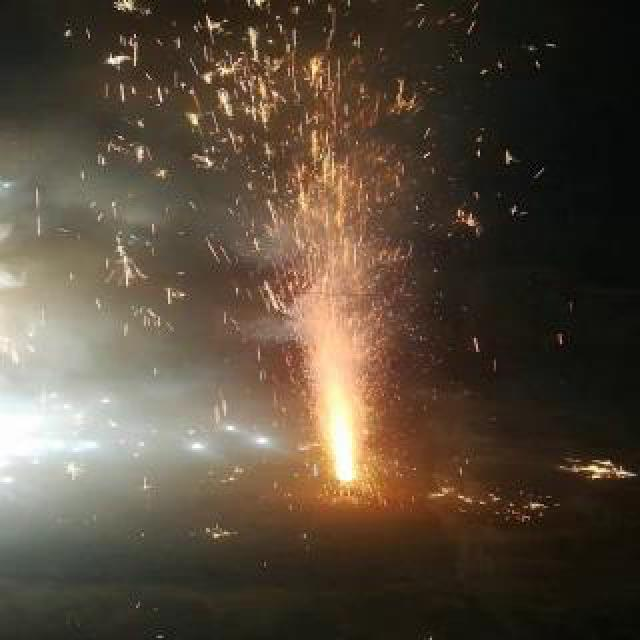zfire: (276, 314, 400, 486)
